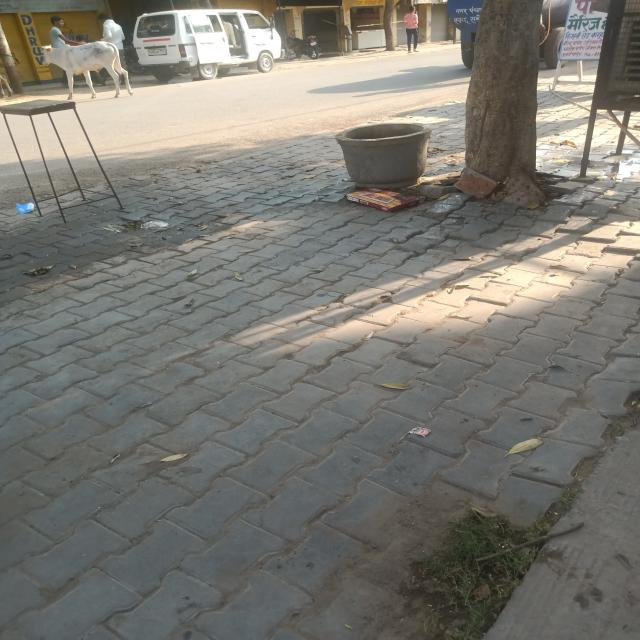Car: (133, 9, 282, 80)
